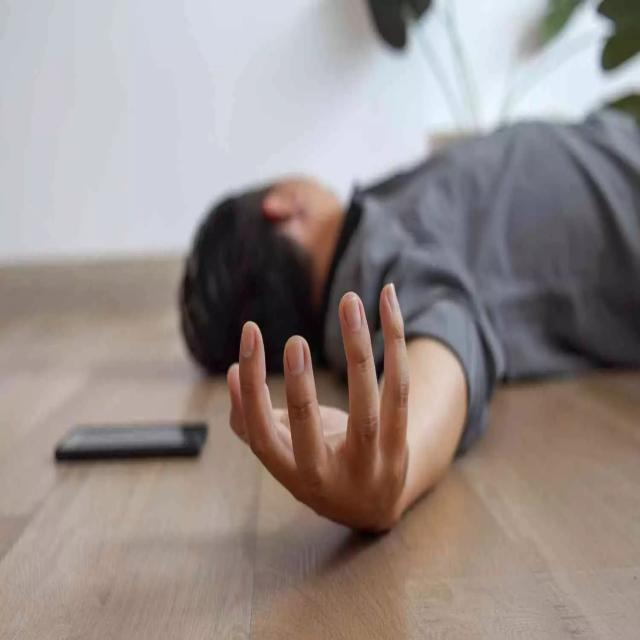smoke: (158, 156, 640, 587)
